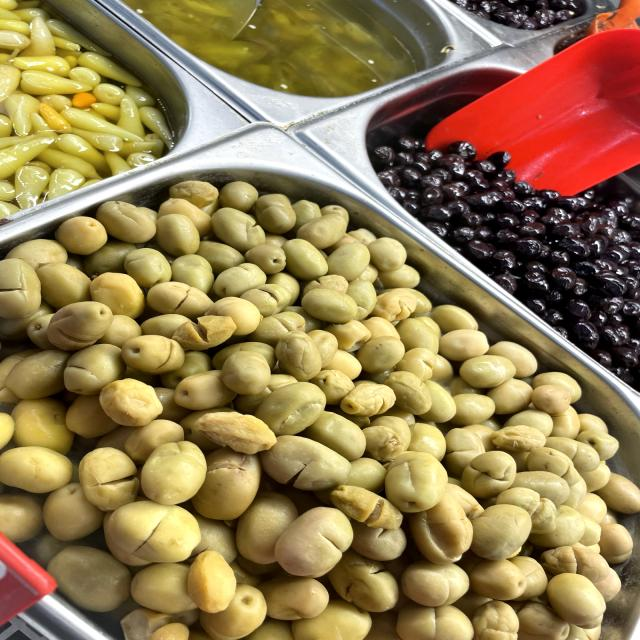olive: (479, 205, 624, 272)
